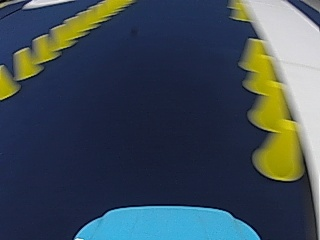cone: (254, 121, 305, 181), (248, 79, 292, 128), (240, 39, 277, 84), (11, 47, 40, 80), (30, 35, 53, 64), (0, 64, 19, 98)
